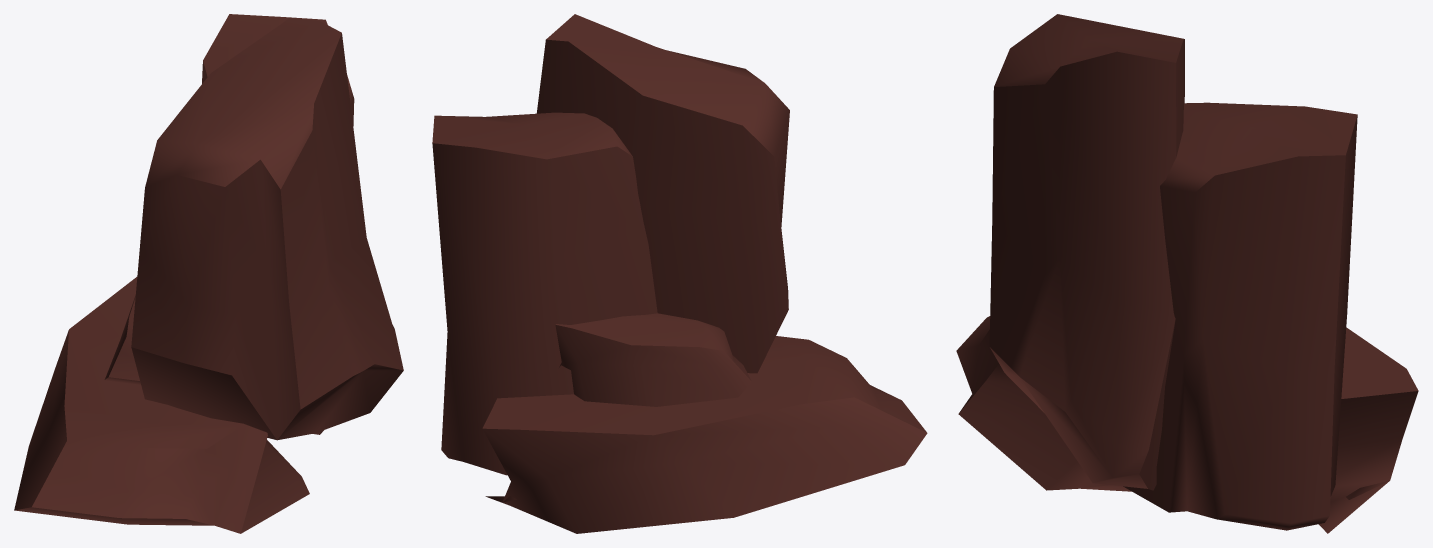
Rendered from SM_rock_complex_E.fbx.
3 renders of one model, left to right at view 1: azimuth 30°, elevation 25°; view 2: azimuth 150°, elevation 25°; view 3: azimuth 270°, elevation 25°, orthographic. The views are drawn at different scales.
Parts seen in each view (by area): view 1: polySurface45; view 2: polySurface45; view 3: polySurface45.
Part boxes in pixels (x1,y1,x2,y2): polySurface45: (14,14,403,533); polySurface45: (432,14,927,533); polySurface45: (956,14,1418,533).
Bounding box in the file's own units: 552 × 564 × 487.
